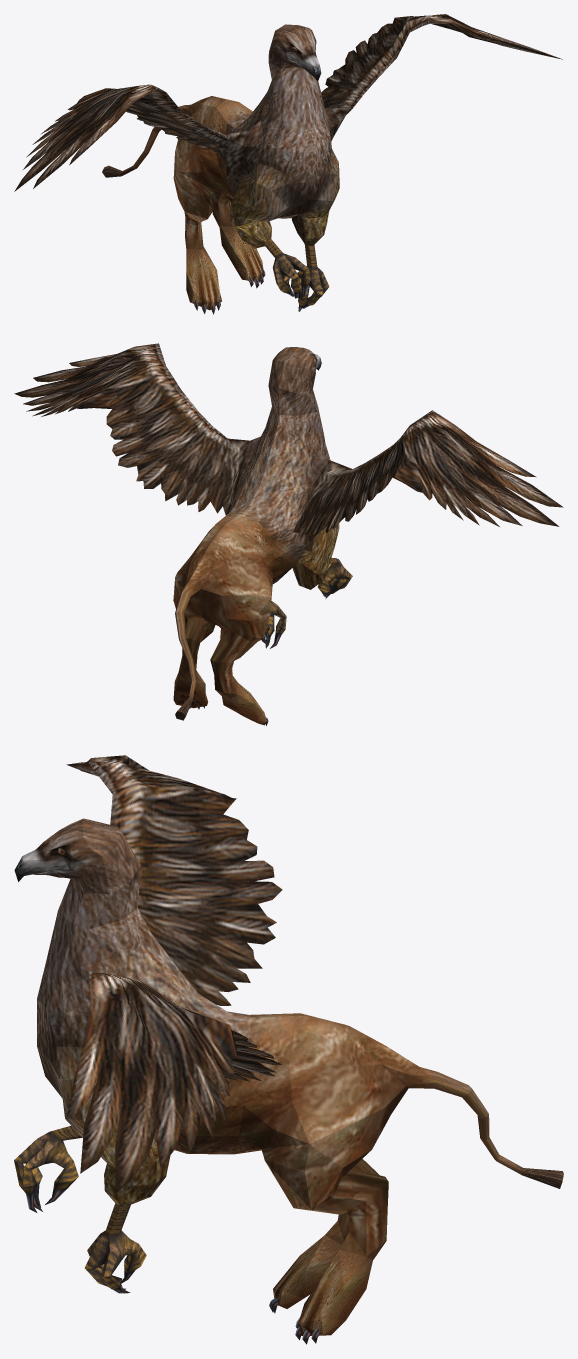
File: Griffon.fbx
3 views of the same model, one above another, from view 1: azimuth 30°, elevation 25°; view 2: azimuth 150°, elevation 25°; view 3: azimuth 270°, elevation 25° (orthographic). The views are drawn at different scales.
Visible parts, largest first — view 1: Body; view 2: Body; view 3: Body.
Part boxes in pixels (box(x1,y1,x2,y2)): Body: box(14, 14, 562, 314); Body: box(14, 343, 563, 725); Body: box(14, 755, 563, 1344).
Bounding box in the file's own units: 2389 × 1363 × 1340.
1 material, 1 textured.
